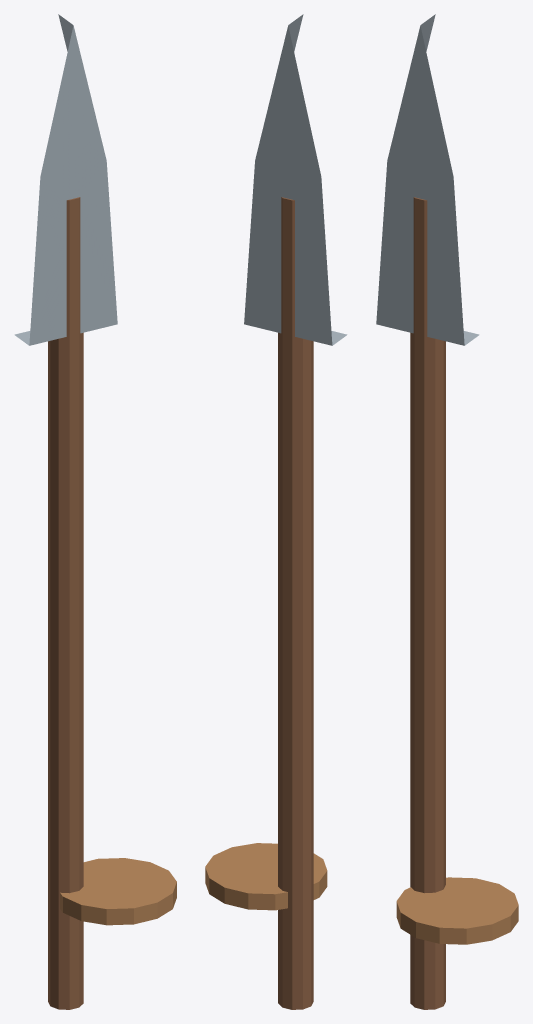
Rendered from vita.glb.
The picture shows the model from 3 angles, left to right: view 1: azimuth 30°, elevation 25°; view 2: azimuth 150°, elevation 25°; view 3: azimuth 330°, elevation 25°; orthographic projection.
Parts seen in each view (by area): view 1: Vita; view 2: Vita; view 3: Vita.
Boxes of the visible parts, x1=… form: Vita: x1=14, y1=14, x2=176, y2=1009; Vita: x1=205, y1=14, x2=347, y2=1009; Vita: x1=376, y1=14, x2=518, y2=1009.
Size of the model in its own units: 0.31 by 2.12 by 0.234.
